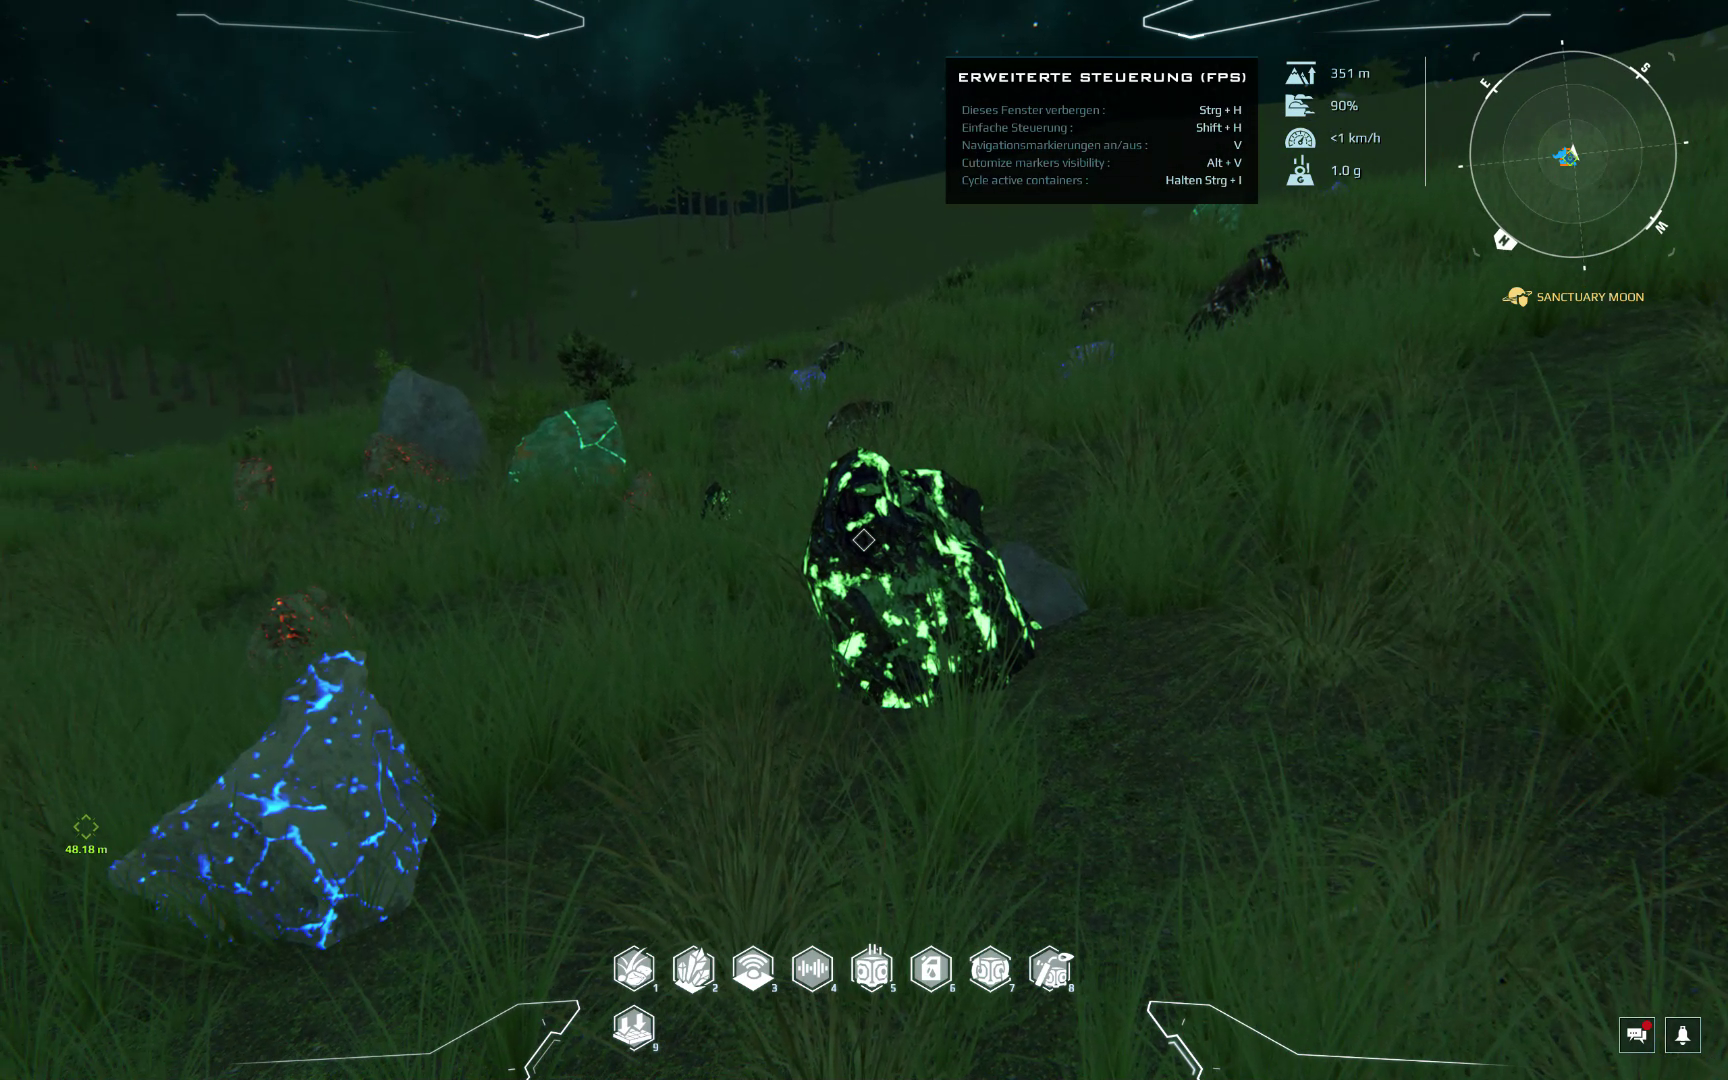Ore: (101, 652, 445, 954), (797, 447, 1043, 719), (501, 398, 632, 504), (1181, 248, 1293, 348), (248, 590, 374, 669), (360, 429, 450, 490), (230, 447, 289, 529), (821, 391, 899, 448), (356, 482, 452, 528), (617, 463, 676, 525), (1062, 332, 1118, 379), (695, 480, 751, 525), (1247, 221, 1308, 263), (785, 366, 834, 399), (819, 337, 863, 370), (1076, 296, 1123, 326)
